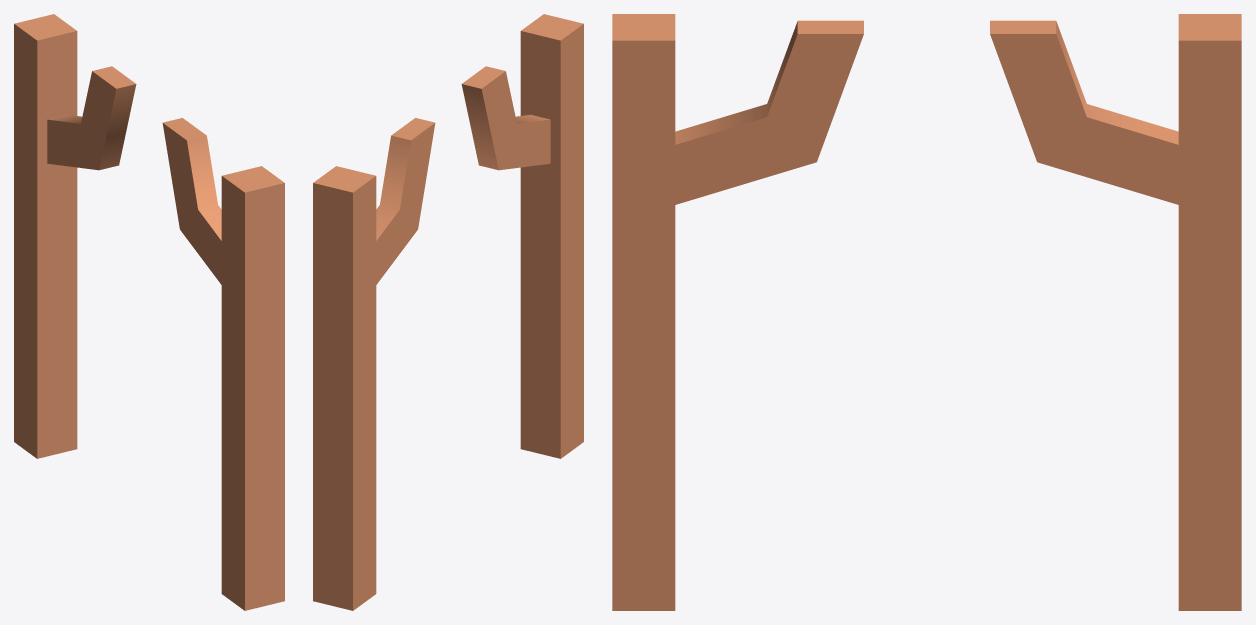
Rendered from balconyWall.obj.
The picture shows the model from 3 angles, left to right: view 1: azimuth 30°, elevation 25°; view 2: azimuth 150°, elevation 25°; view 3: azimuth 270°, elevation 25°; orthographic projection. The views are drawn at different scales.
Visible parts, largest first — view 1: balconyWall; view 2: balconyWall; view 3: balconyWall.
Part boxes in pixels (bbox=[...]): balconyWall: bbox=[14, 14, 284, 610]; balconyWall: bbox=[313, 14, 583, 610]; balconyWall: bbox=[612, 14, 1241, 610].
Bounding box in the file's own units: 0.1 × 1 × 1.
